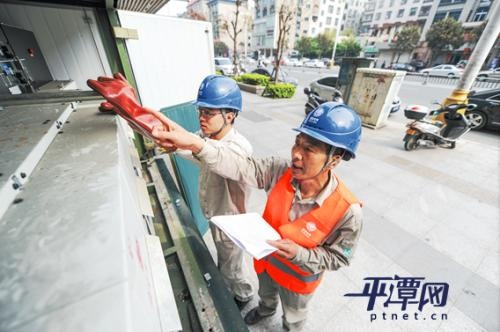blue: (290, 102, 358, 183), (194, 71, 242, 135)
